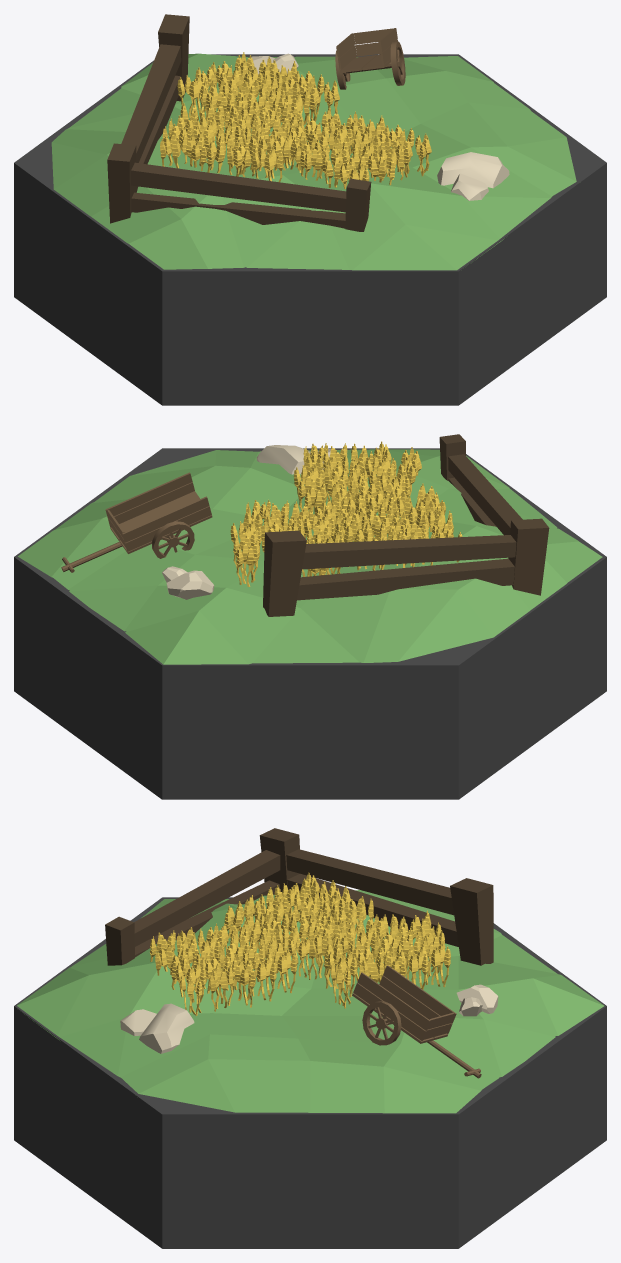
Rendered from wheat.glb.
The picture shows the model from 3 angles, top to bottom: view 1: azimuth 30°, elevation 25°; view 2: azimuth 150°, elevation 25°; view 3: azimuth 270°, elevation 25°; orthographic projection.
Visible parts, largest first — view 1: Base_Tile, Ground, Fence 1, Wheat.002, Wheat.003, Fence 2, Wheat.001, Cart, Stone.002; view 2: Base_Tile, Ground, Fence 2, Wheat.002, Cart, Wheat.003, Wheat.001, Fence 1, Stone.001, Stone.002; view 3: Base_Tile, Ground, Fence 2, Wheat.002, Wheat.001, Fence 1, Wheat.003, Cart, Stone.002, Stone.001.
Boxes of the visible parts, x1,y1,x2,y2 form: Base_Tile: [14, 54, 606, 405]; Ground: [51, 53, 576, 270]; Fence 1: [131, 162, 371, 231]; Wheat.002: [271, 108, 431, 189]; Wheat.003: [160, 99, 304, 182]; Fence 2: [107, 14, 189, 223]; Wheat.001: [177, 52, 339, 143]; Cart: [335, 28, 405, 89]; Stone.002: [437, 152, 509, 200]; Base_Tile: [14, 448, 606, 799]; Ground: [18, 449, 602, 664]; Fence 2: [263, 518, 549, 616]; Wheat.002: [293, 441, 421, 530]; Cart: [61, 472, 212, 572]; Wheat.003: [323, 483, 462, 570]; Wheat.001: [230, 499, 361, 586]; Fence 1: [439, 434, 522, 535]; Stone.001: [162, 566, 214, 599]; Stone.002: [256, 445, 330, 474]; Base_Tile: [14, 897, 606, 1248]; Ground: [17, 890, 604, 1113]; Fence 2: [259, 828, 493, 965]; Wheat.002: [150, 918, 297, 1015]; Wheat.001: [308, 910, 450, 1008]; Fence 1: [105, 850, 280, 965]; Wheat.003: [224, 872, 373, 979]; Cart: [352, 965, 481, 1078]; Stone.002: [120, 1003, 194, 1053]; Stone.001: [456, 984, 498, 1016].
Bounding box in the file's own units: 1.73 × 0.8522 × 2.
